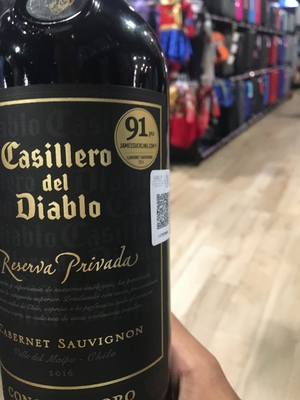casillero del diablo reserva privada cabernet sauvignon: (2, 6, 182, 400)
